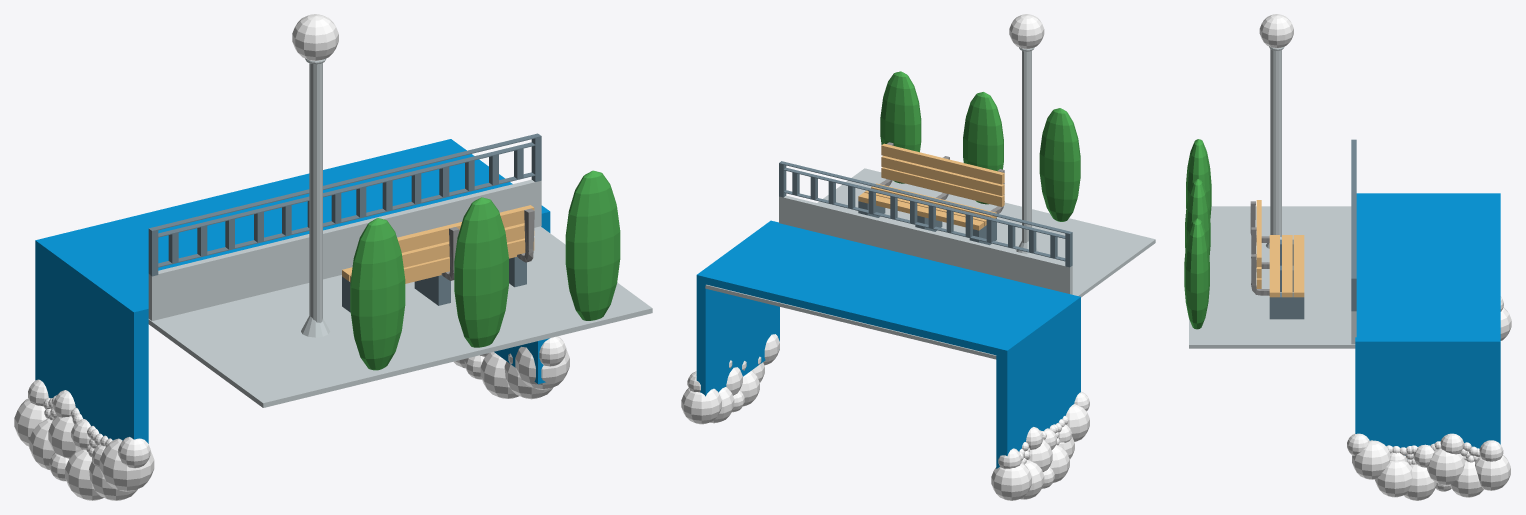
The model's file is small-park.glb.
3 renders of one model, left to right at view 1: azimuth 30°, elevation 25°; view 2: azimuth 150°, elevation 25°; view 3: azimuth 270°, elevation 25°, orthographic. The views are drawn at different scales.
Visible parts, largest first — view 1: group589081353, group266013438, group364980975, group1647023232, group1744309658, group451859629, group396995054, group1884902052, group1303434175, group2076886475, group852146232, group2089010446 (+15 smaller); view 2: group266013438, group364980975, group589081353, group1647023232, group372501224, group1744309658, group451859629, group396995054, group1884902052, group366129718, group1988958060, group1043239771 (+10 smaller); view 3: group266013438, group589081353, group372501224, group451859629, group1884902052, group490942688, group1744309658, group396995054, group59571302, group1720539845, group1168676517, group852146232 (+12 smaller).
Boxes of the visible parts, bbox=[...] form: group589081353: bbox=[148, 226, 652, 407]; group266013438: bbox=[50, 142, 500, 308]; group364980975: bbox=[35, 236, 148, 443]; group1647023232: bbox=[148, 179, 541, 320]; group1744309658: bbox=[350, 218, 405, 370]; group451859629: bbox=[565, 170, 620, 320]; group396995054: bbox=[454, 197, 508, 347]; group1884902052: bbox=[309, 63, 322, 322]; group1303434175: bbox=[148, 135, 535, 231]; group2076886475: bbox=[158, 142, 535, 237]; group852146232: bbox=[292, 14, 338, 60]; group2089010446: bbox=[99, 438, 154, 491]; group266013438: bbox=[705, 223, 1069, 355]; group364980975: bbox=[996, 294, 1080, 468]; group589081353: bbox=[705, 168, 1155, 359]; group1647023232: bbox=[779, 195, 1072, 294]; group372501224: bbox=[696, 220, 779, 396]; group1744309658: bbox=[1039, 108, 1080, 221]; group451859629: bbox=[880, 71, 921, 183]; group396995054: bbox=[963, 92, 1003, 204]; group1884902052: bbox=[1022, 50, 1031, 242]; group366129718: bbox=[881, 143, 1004, 184]; group1988958060: bbox=[881, 155, 1004, 195]; group1043239771: bbox=[881, 167, 1004, 206]; group266013438: bbox=[1356, 198, 1500, 337]; group589081353: bbox=[1189, 206, 1355, 348]; group372501224: bbox=[1355, 337, 1500, 455]; group451859629: bbox=[1184, 218, 1209, 329]; group1884902052: bbox=[1270, 49, 1281, 236]; group490942688: bbox=[1352, 440, 1390, 479]; group1744309658: bbox=[1186, 139, 1211, 218]; group396995054: bbox=[1185, 179, 1210, 257]; group59571302: bbox=[1375, 461, 1412, 497]; group1720539845: bbox=[1427, 448, 1465, 485]; group1168676517: bbox=[1475, 455, 1510, 490]; group852146232: bbox=[1259, 14, 1293, 48].
Size of the model in its own units: 6.08 by 6.43 by 5.
